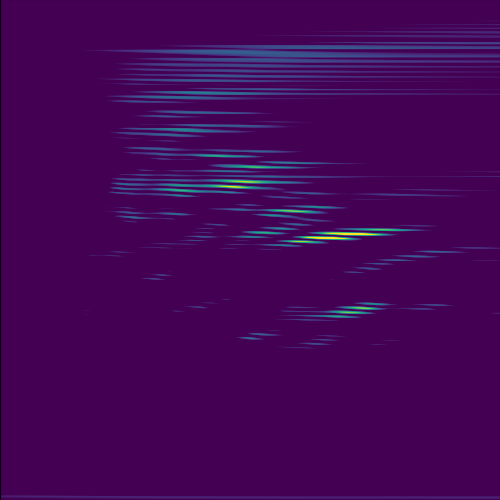semblance: (282, 222, 419, 252), (191, 172, 282, 196)
